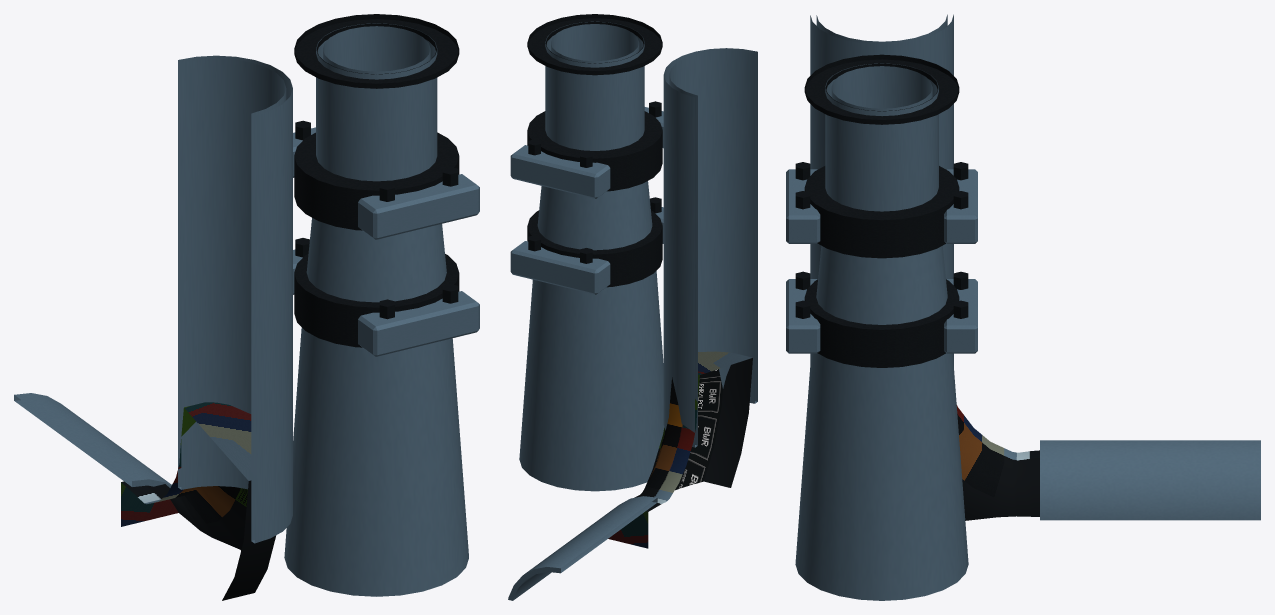
Rendered from cell_3.obj.
3 views of the same model, side by side, from view 1: azimuth 30°, elevation 25°; view 2: azimuth 150°, elevation 25°; view 3: azimuth 270°, elevation 25° (orthographic). The views are drawn at different scales.
Visible parts, largest first — view 1: cell_3; view 2: cell_3; view 3: cell_3.
Part boxes in pixels (x1=…): cell_3: x1=14, y1=14, x2=479, y2=600; cell_3: x1=508, y1=14, x2=757, y2=600; cell_3: x1=786, y1=14, x2=1260, y2=600.
Size of the model in its own units: 0.4945 by 1 by 0.9025.
